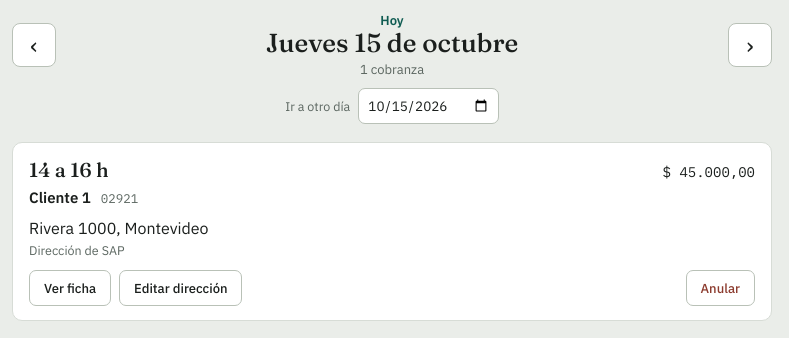
Test case: CobranzaPage › selector de día › la lista de un día no se ve bajo el título de otro
The width and height of the screenshot is (789, 338).
Expected: the element "Cliente 1" is shown, [12, 142, 772, 321]
Click the button named "Día siguiente": (750, 45) [728, 23, 772, 67]
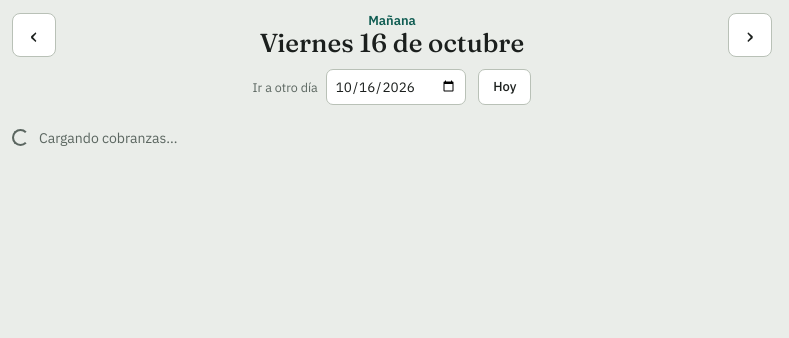
Result: the heading "Cliente 1" is gone
Result: the text "Cargando cobranzas…" is shown at [12, 129, 177, 147]
